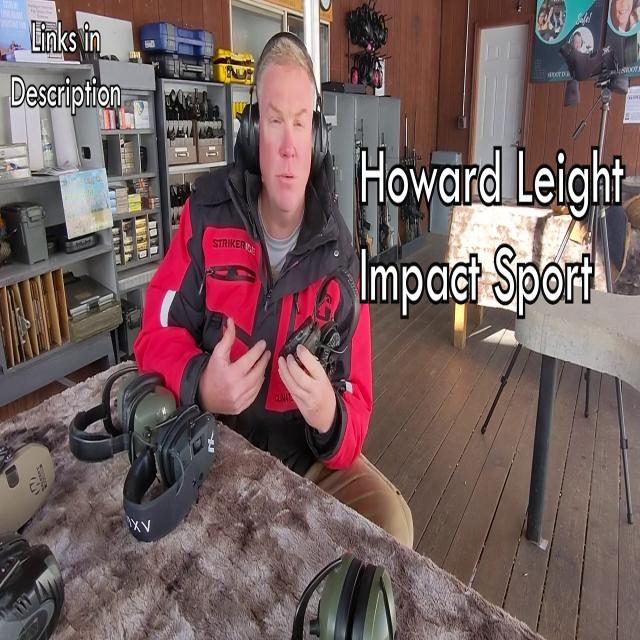earmuff: (277, 310, 321, 377), (234, 94, 264, 169), (308, 102, 334, 174)
